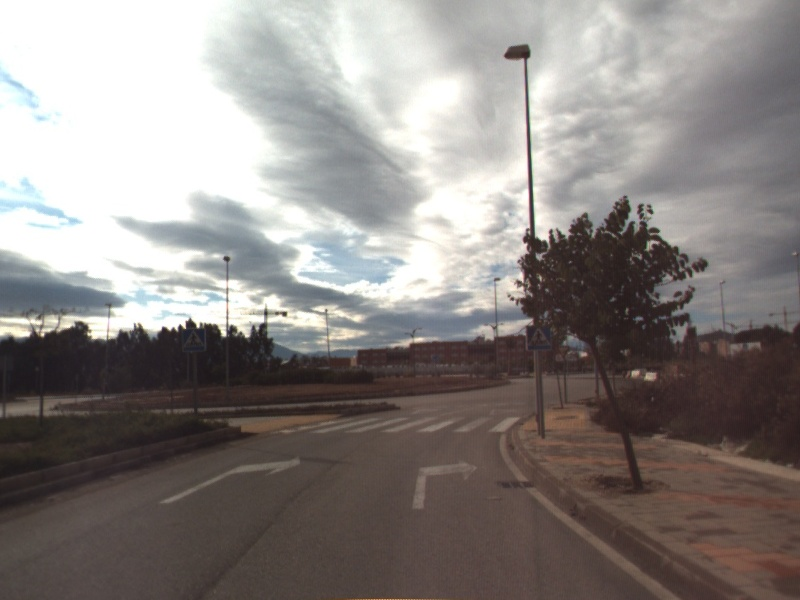RIGHT: (157, 453, 302, 506), (410, 456, 480, 511)
